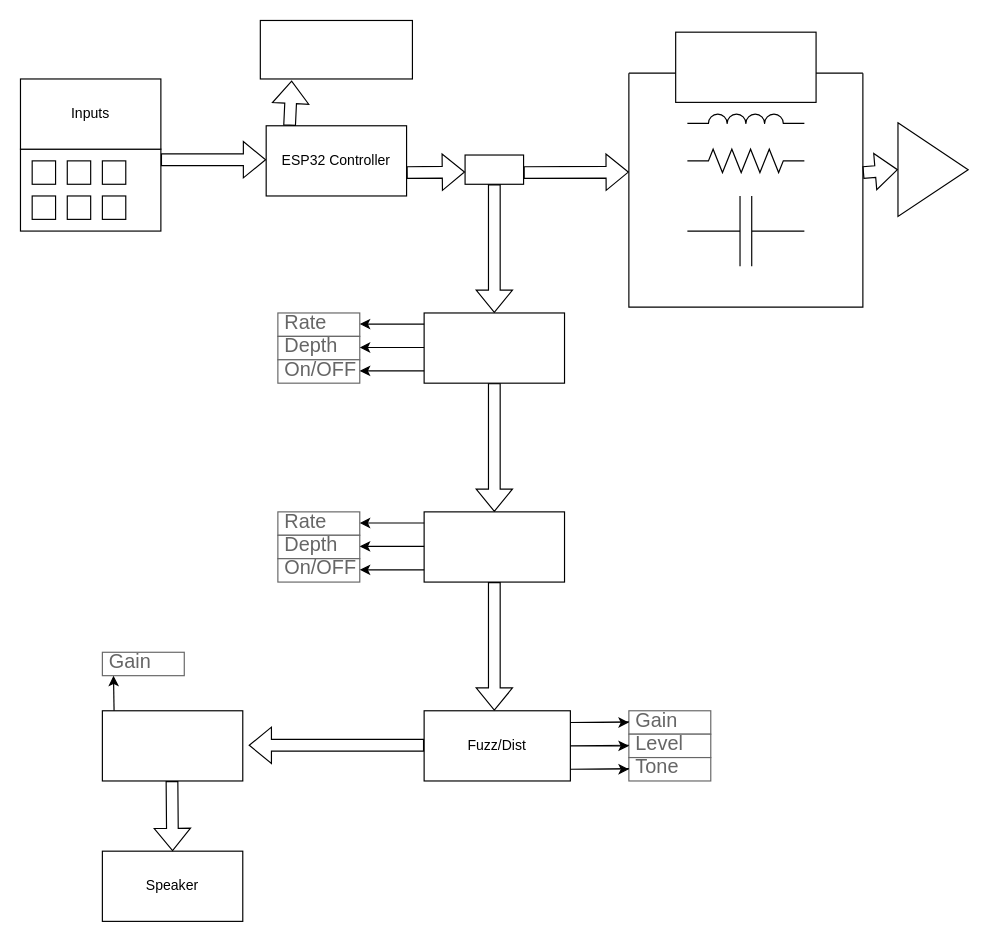
The diagram is 989 pixels wide and 942 high, and some of its shapes have lost their labels. The centre of each missing label's shape, as x and y in pixels:
Chorus: pixel 494 347
Class D Amp: pixel 172 745
Ground: pixel 932 169
Noise Filter: pixel 745 66
OLED/LED Display: pixel 335 49
PWM: pixel 494 169
Tremolo: pixel 494 546
